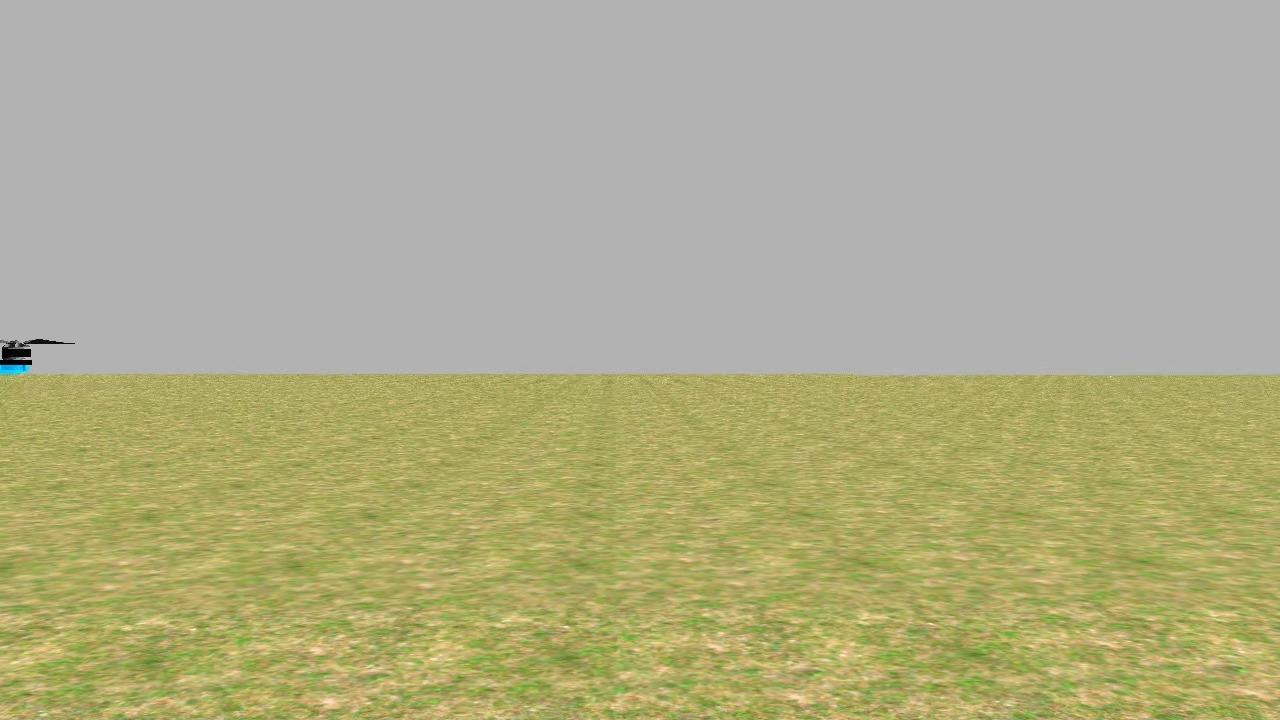UAV: (0, 333, 84, 396)
